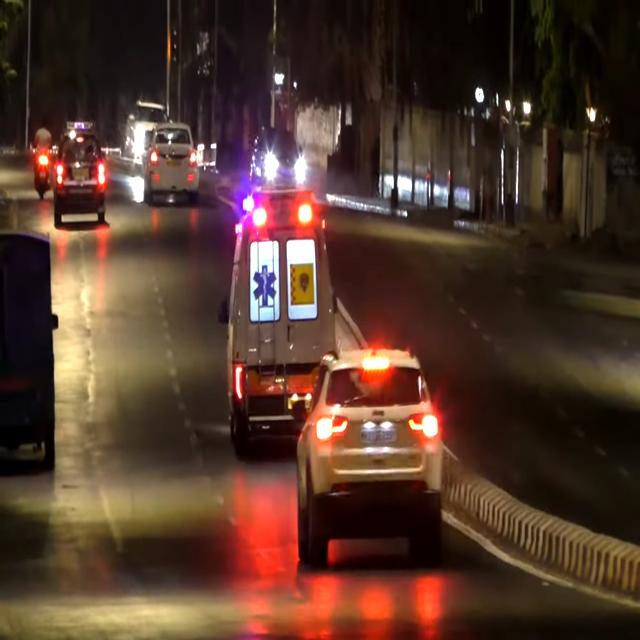emergency-vehicles: (203, 184, 362, 441)
